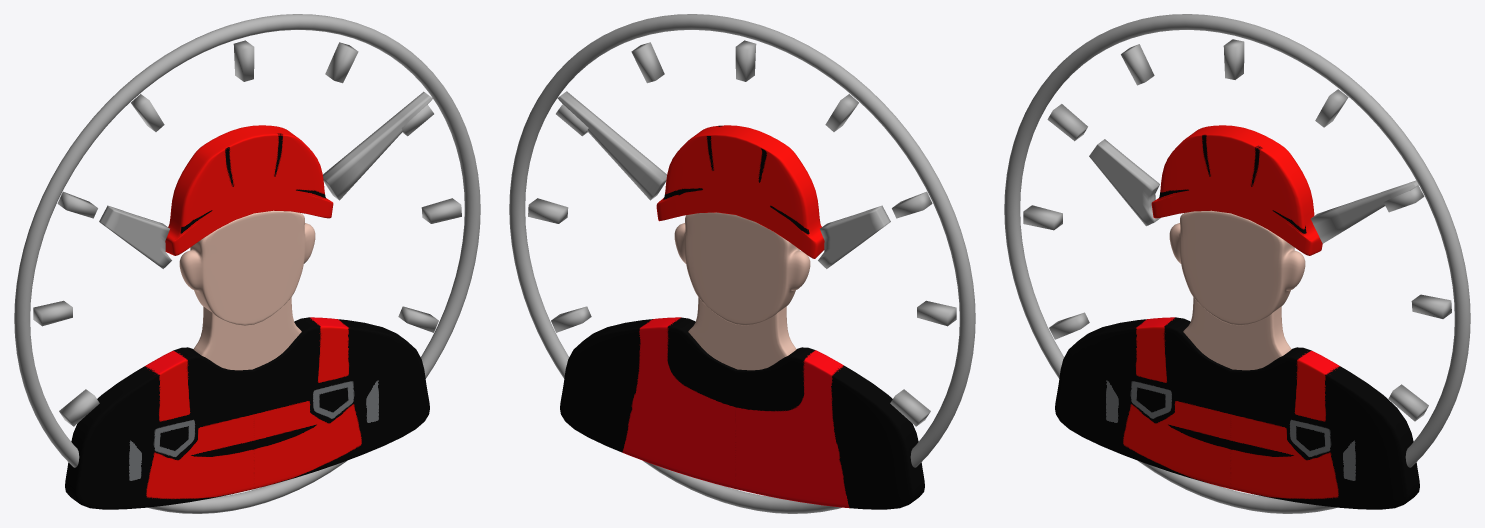
Rendered from buildpulse.glb.
The picture shows the model from 3 angles, left to right: view 1: azimuth 30°, elevation 25°; view 2: azimuth 150°, elevation 25°; view 3: azimuth 330°, elevation 25°; orthographic projection.
Visible parts, largest first — view 1: chest, Torus, hat, face, neck, Cube.001, Cube, Cube.008, Cube.003, Cube.007, Cube.010, Cube.004 (+3 smaller); view 2: chest, Torus, hat, face, neck, Cube.001, Cube, Cube.008, Cube.003, Cube.007, Cube.010, Cube.004 (+3 smaller); view 3: chest, Torus, hat, face, neck, Cube, Cube.001, Cube.011, Cube.005, Cube.006, Cube.007, Cube.010 (+4 smaller).
Part boxes in pixels (x1,y1,x2,y2): chest: (65, 317, 429, 509); Torus: (14, 14, 480, 513); hat: (165, 125, 333, 255); face: (179, 210, 315, 325); neck: (193, 297, 301, 370); Cube.001: (323, 91, 432, 200); Cube: (99, 205, 171, 268); Cube.008: (325, 42, 358, 83); Cube.003: (59, 389, 99, 426); Cube.007: (233, 40, 254, 81); Cube.010: (421, 198, 461, 223); Cube.004: (33, 300, 72, 326); chest: (560, 317, 924, 509); Torus: (509, 14, 975, 513); hat: (656, 125, 824, 258); face: (674, 212, 810, 325); neck: (688, 297, 796, 370); Cube.001: (557, 91, 666, 200); Cube: (818, 205, 890, 268); Cube.008: (631, 42, 664, 83); Cube.003: (890, 389, 930, 426); Cube.007: (735, 40, 756, 81); Cube.010: (528, 198, 568, 223); Cube.004: (917, 300, 956, 326); chest: (1055, 317, 1419, 509); Torus: (1004, 14, 1470, 513); hat: (1151, 125, 1322, 255); face: (1169, 210, 1305, 325); neck: (1183, 297, 1291, 370); Cube: (1089, 139, 1160, 226); Cube.001: (1311, 180, 1418, 243); Cube.011: (1388, 384, 1428, 421); Cube.005: (1047, 104, 1087, 141); Cube.006: (1121, 44, 1154, 85); Cube.007: (1223, 39, 1244, 79); Cube.010: (1411, 294, 1451, 318).
Bounding box in the file's own units: 3.49 × 3.49 × 0.1719.
5 materials, 2 textured.
